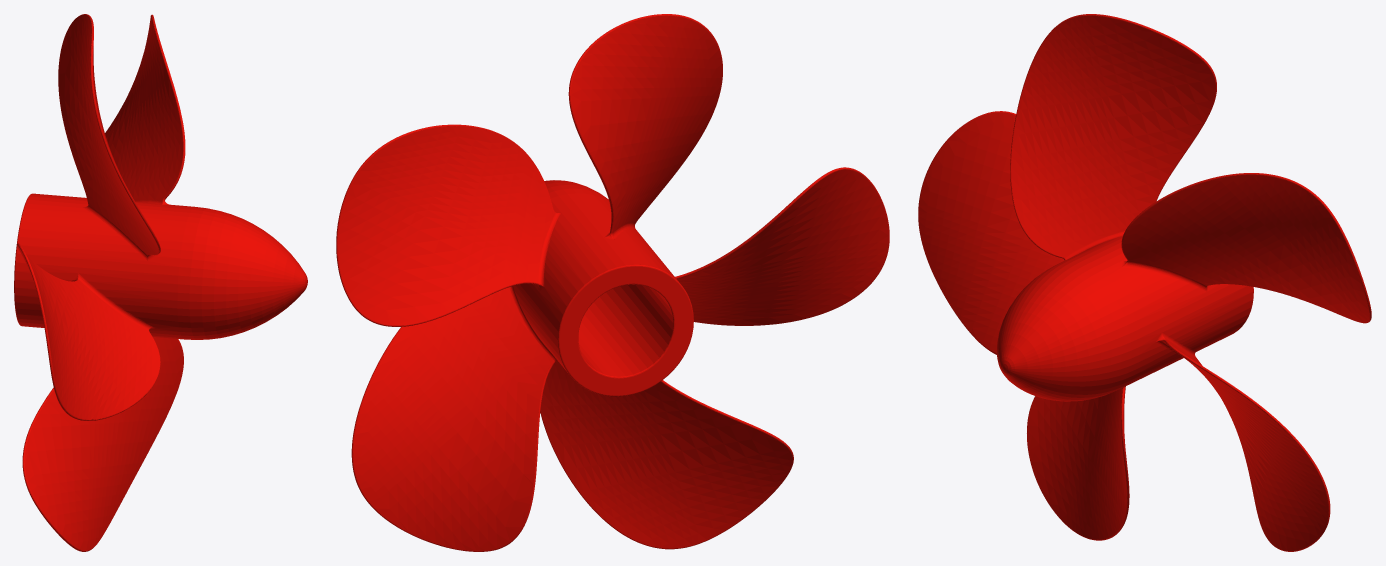
Rendered from propeller5.dae.
3 views of the same model, side by side, from view 1: azimuth 30°, elevation 25°; view 2: azimuth 150°, elevation 25°; view 3: azimuth 270°, elevation 25° (orthographic). The views are drawn at different scales.
Visible parts, largest first — view 1: propeller_blade.005; view 2: propeller_blade.005; view 3: propeller_blade.005.
Boxes of the visible parts, x1=… form: propeller_blade.005: x1=14, y1=14, x2=307, y2=551; propeller_blade.005: x1=336, y1=14, x2=889, y2=551; propeller_blade.005: x1=918, y1=14, x2=1371, y2=551.
Size of the model in its own units: 0.0358 by 0.0437 by 0.0559.
